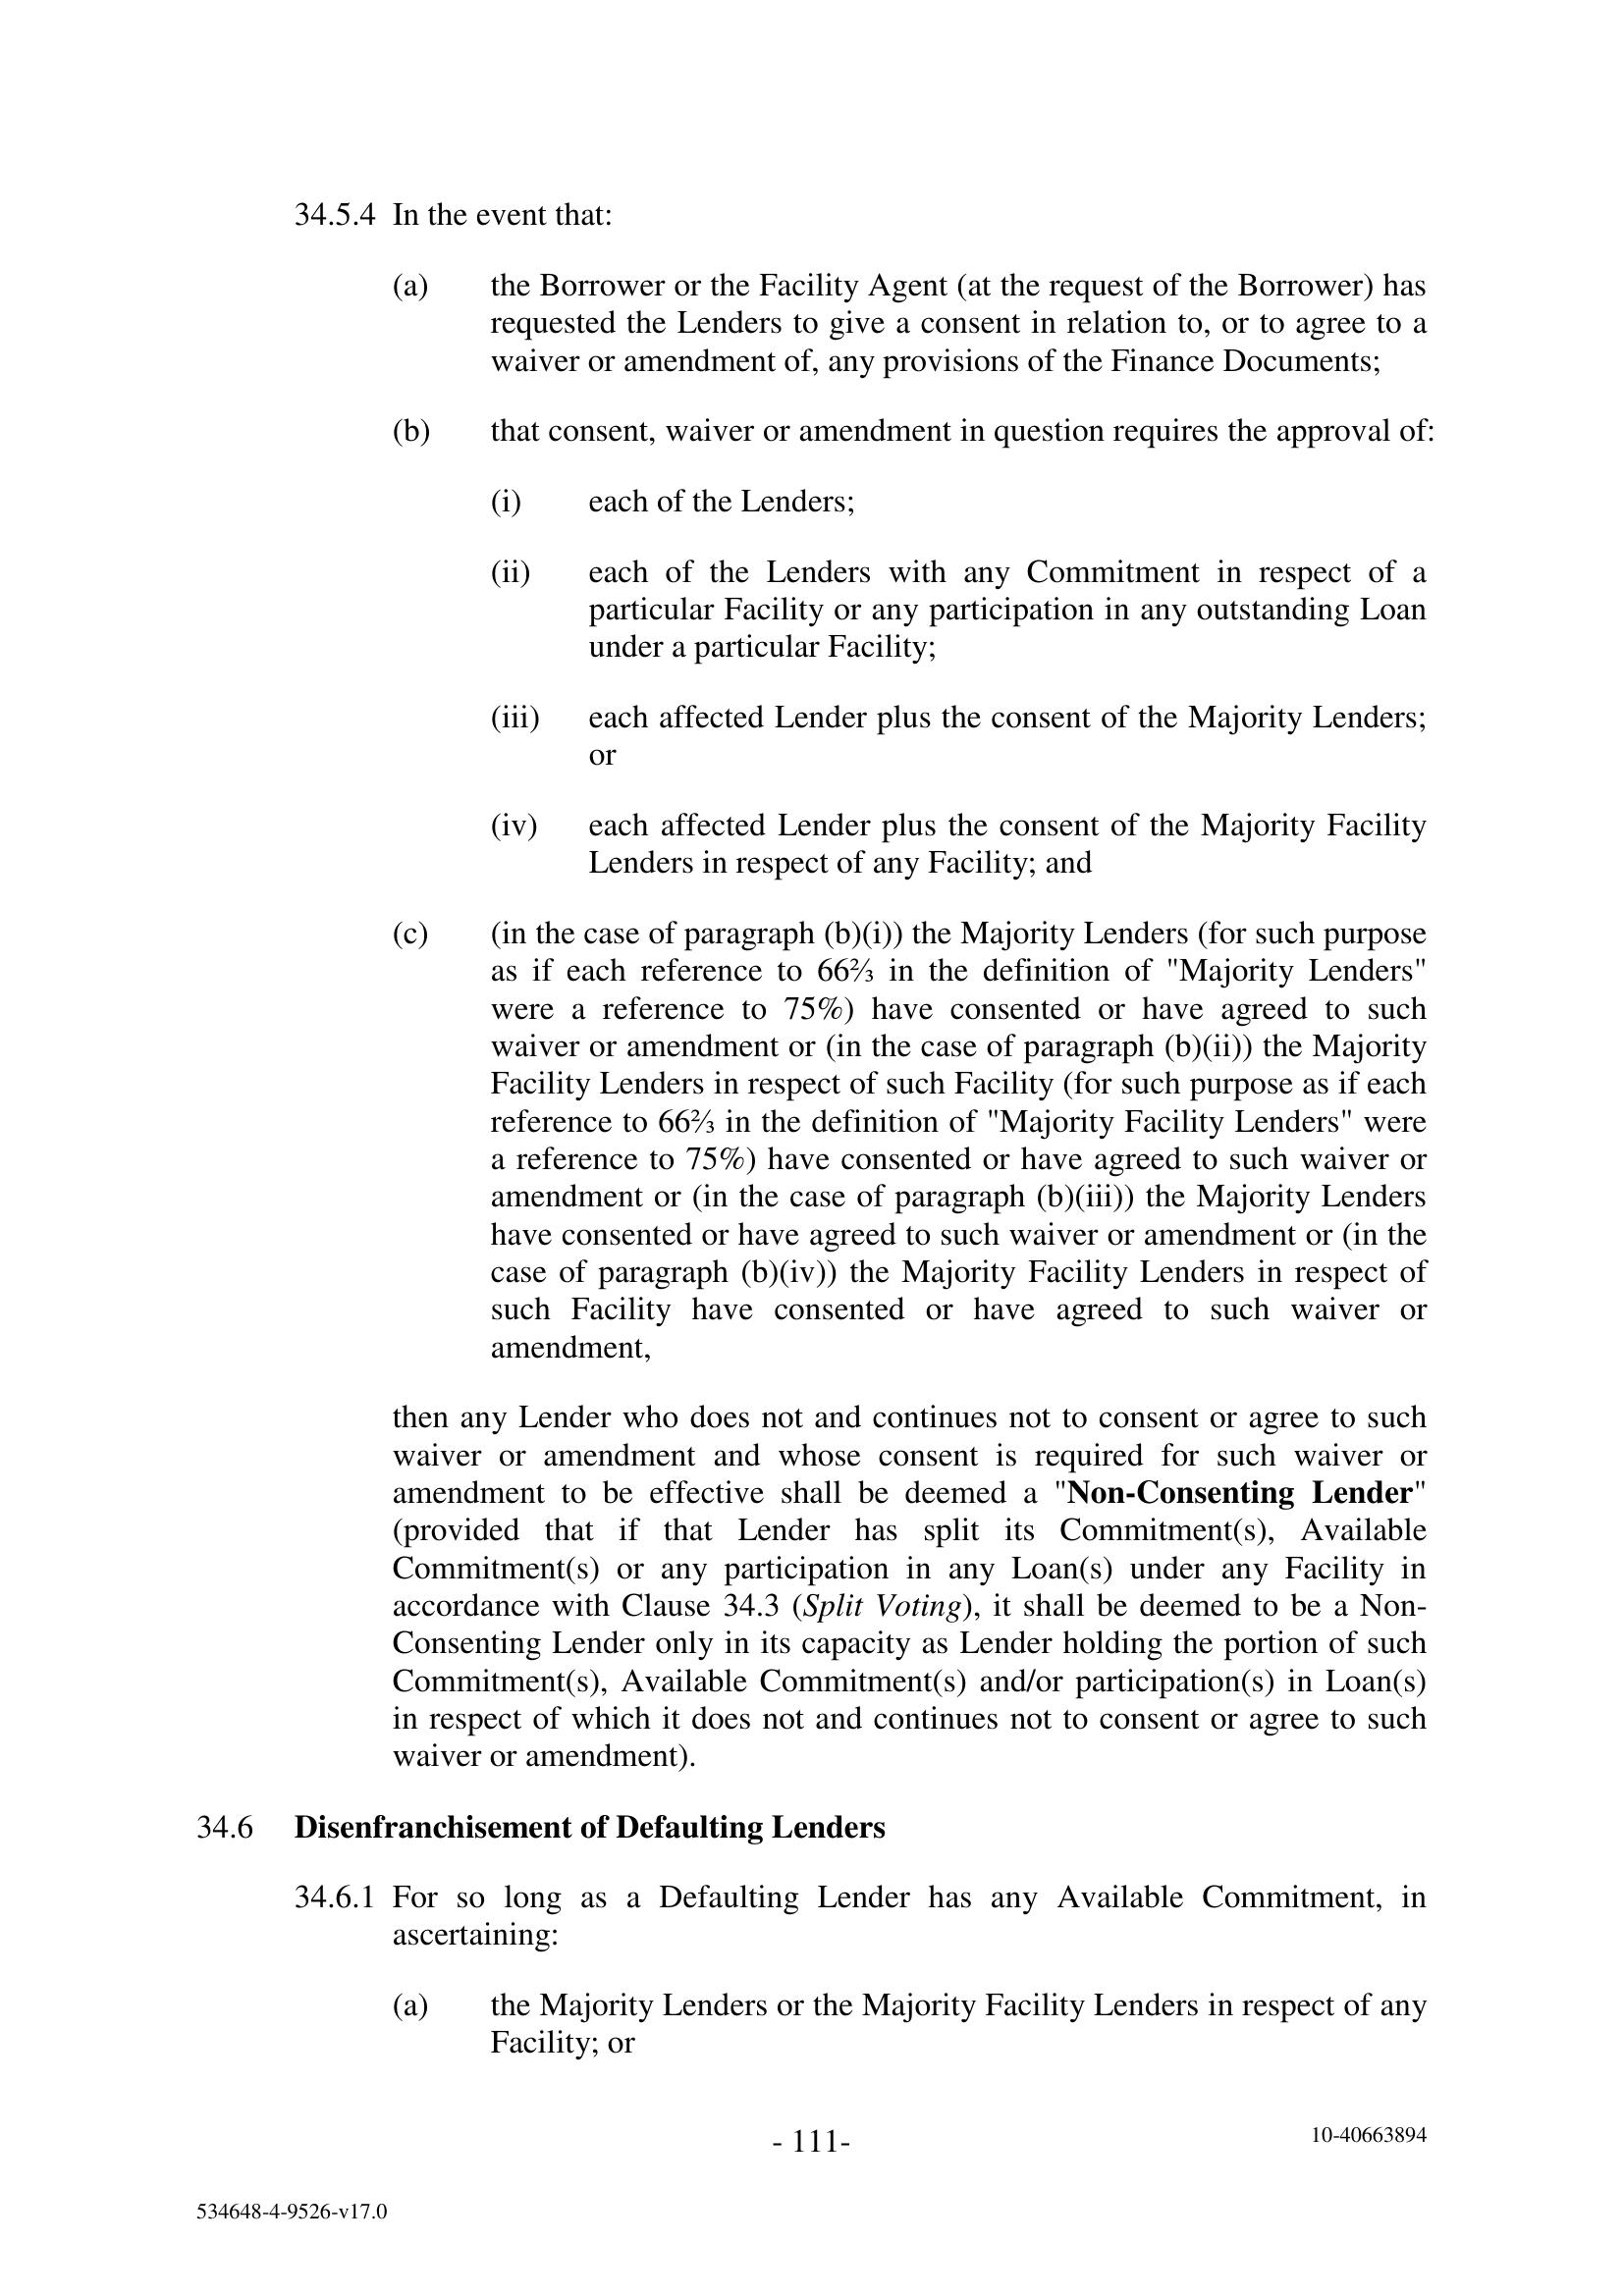pageno: (724, 2068, 910, 2222)
tag: (1205, 2082, 1551, 2191), (114, 2171, 488, 2252)
